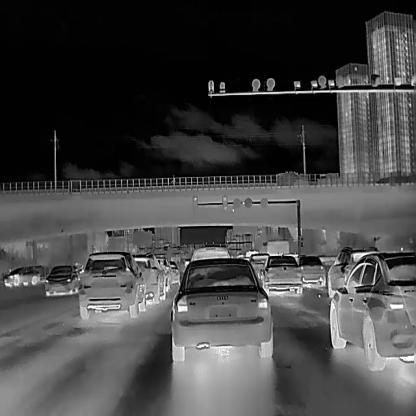car: (170, 257, 272, 362), (330, 252, 416, 370), (78, 251, 146, 320), (327, 245, 378, 297), (131, 251, 166, 304), (259, 255, 302, 295), (45, 264, 79, 295), (296, 254, 325, 288), (2, 265, 40, 286), (154, 252, 172, 291), (190, 246, 230, 261), (248, 252, 269, 278), (262, 239, 289, 256), (168, 259, 180, 287)
